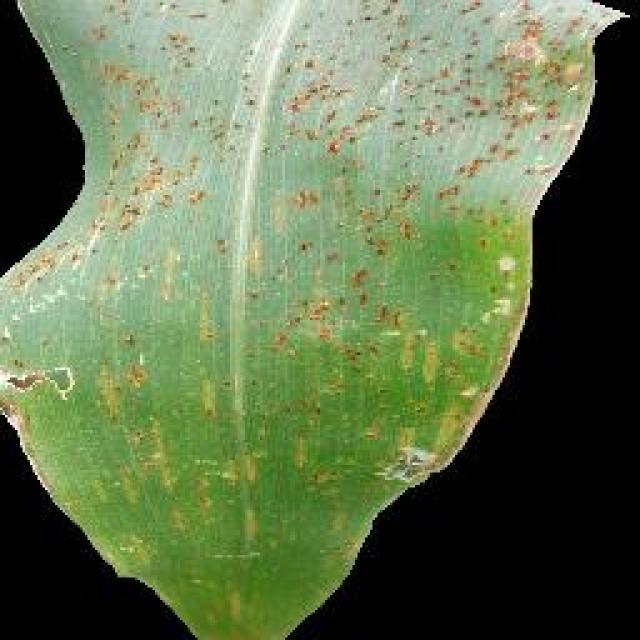Corn Common Rust: (63, 16, 527, 436)
